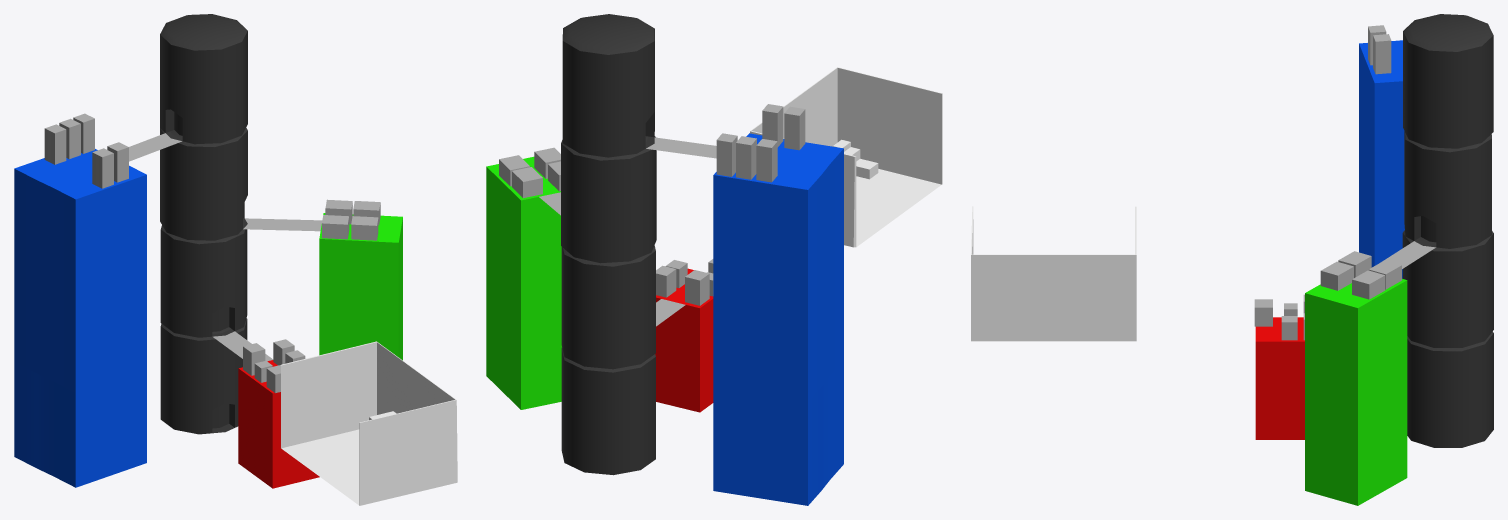
File: GrayBox.fbx
The picture shows the model from 3 angles, left to right: view 1: azimuth 30°, elevation 25°; view 2: azimuth 150°, elevation 25°; view 3: azimuth 270°, elevation 25°; orthographic projection. The views are drawn at different scales.
Parts seen in each view (by area): view 1: Platform_F3, Wall, Tower_F3, Platform_F2, Tower_F1, Tower_F2, Tutorial_section_, Platform_F1, room, Bridge_F2, Building_033, Building_034 (+8 smaller); view 2: Platform_F3, Platform_F2, Wall, Tower_F3, Tower_F2, Tutorial_section_, Tower_F1, Platform_F1, room, Building_033, Building_034, Bridge_F3 (+8 smaller); view 3: Platform_F2, Wall, Tower_F3, Platform_F3, Tower_F2, Tutorial_section_, Tower_F1, Platform_F1, Building_023, Building_022, Building_035, Bridge_F2.
Part boxes in pixels (left/top/right/bottom): Platform_F3: left=14, top=149, right=146, bottom=487; Wall: left=281, top=341, right=457, bottom=505; Tower_F3: left=160, top=14, right=247, bottom=144; Platform_F2: left=319, top=213, right=402, bottom=360; Tower_F1: left=160, top=225, right=247, bottom=337; Tower_F2: left=160, top=128, right=247, bottom=240; Tutorial_section_: left=160, top=318, right=247, bottom=434; Platform_F1: left=238, top=360, right=319, bottom=488; room: left=281, top=429, right=359, bottom=505; Bridge_F2: left=243, top=218, right=322, bottom=231; Building_033: left=44, top=124, right=66, bottom=164; Building_034: left=92, top=148, right=113, bottom=188; Platform_F3: left=713, top=133, right=843, bottom=505; Platform_F2: left=486, top=156, right=561, bottom=409; Wall: left=749, top=67, right=942, bottom=247; Tower_F3: left=562, top=14, right=654, bottom=157; Tower_F2: left=561, top=136, right=656, bottom=263; Tutorial_section_: left=561, top=347, right=655, bottom=475; Tower_F1: left=561, top=245, right=655, bottom=369; Platform_F1: left=655, top=268, right=713, bottom=412; room: left=856, top=169, right=941, bottom=246; Building_033: left=756, top=139, right=777, bottom=182; Building_034: left=784, top=106, right=805, bottom=150; Bridge_F3: left=646, top=137, right=716, bottom=158; Platform_F2: left=1305, top=278, right=1407, bottom=505; Wall: left=971, top=206, right=1136, bottom=341; Tower_F3: left=1403, top=14, right=1493, bottom=148; Platform_F3: left=1359, top=40, right=1404, bottom=278; Tower_F2: left=1404, top=131, right=1491, bottom=248; Tutorial_section_: left=1407, top=331, right=1493, bottom=447; Tower_F1: left=1402, top=230, right=1493, bottom=347; Platform_F1: left=1255, top=317, right=1304, bottom=439; Building_023: left=1352, top=270, right=1385, bottom=299; Building_022: left=1320, top=261, right=1353, bottom=290; Building_035: left=1373, top=34, right=1391, bottom=74; Bridge_F2: left=1380, top=241, right=1435, bottom=268.
Size of the model in its own units: 7502 by 8121 by 9629.
